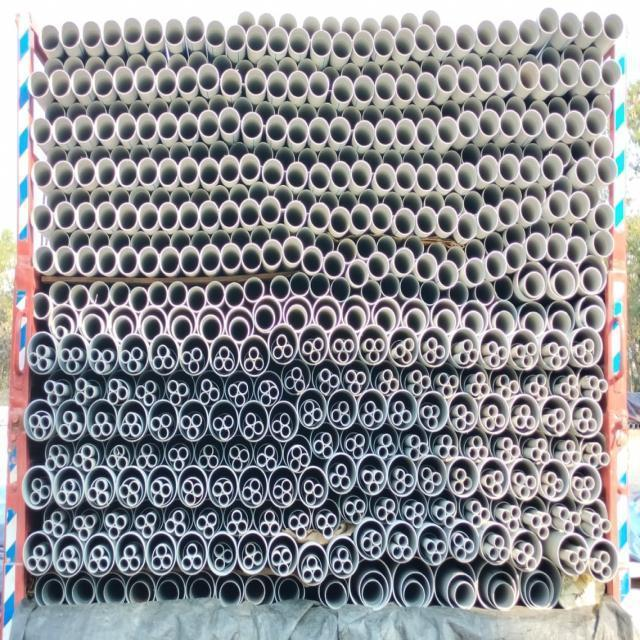pipe: (145, 172, 338, 340), (91, 197, 213, 405), (228, 183, 377, 349), (131, 456, 332, 563), (45, 219, 218, 336), (76, 443, 245, 559), (493, 422, 612, 585), (186, 349, 351, 456), (265, 109, 372, 273), (247, 17, 369, 151), (88, 93, 223, 214), (185, 89, 343, 191), (40, 411, 167, 533), (383, 265, 506, 379), (259, 118, 353, 264), (206, 158, 298, 304), (391, 447, 494, 570), (310, 427, 456, 512), (206, 20, 315, 129), (346, 465, 496, 544), (98, 114, 204, 216), (85, 252, 188, 352), (148, 17, 228, 144), (420, 248, 500, 373), (310, 40, 397, 152), (259, 141, 348, 230), (462, 21, 522, 148), (73, 55, 126, 198), (261, 414, 372, 482), (519, 225, 583, 342), (104, 428, 199, 505), (183, 350, 248, 460), (275, 162, 368, 237), (539, 47, 601, 158), (386, 31, 458, 123), (502, 356, 574, 446), (248, 368, 325, 451), (450, 49, 512, 152), (471, 145, 513, 285), (245, 369, 348, 426), (224, 72, 299, 150), (276, 400, 359, 470), (216, 333, 280, 420), (475, 264, 536, 352), (497, 477, 573, 545), (521, 523, 605, 583), (532, 68, 583, 162), (336, 367, 401, 440), (328, 299, 386, 380), (183, 577, 262, 634), (35, 216, 103, 281), (414, 86, 475, 157), (110, 35, 178, 98), (399, 373, 460, 441), (116, 393, 169, 469), (83, 122, 156, 177), (451, 100, 506, 173), (406, 176, 461, 247), (115, 46, 170, 116), (150, 508, 227, 558), (79, 244, 135, 311), (15, 80, 61, 161), (467, 32, 516, 108), (37, 497, 118, 542), (0, 403, 42, 488), (577, 67, 594, 275), (494, 33, 543, 105), (200, 2, 233, 98), (393, 82, 446, 141), (268, 474, 312, 544), (114, 158, 158, 223), (411, 309, 463, 363), (349, 558, 393, 620), (127, 252, 270, 271), (41, 566, 100, 611), (126, 82, 169, 141), (378, 458, 456, 488), (525, 136, 561, 200), (41, 31, 93, 75), (608, 24, 619, 228), (434, 559, 477, 611), (283, 496, 344, 532), (327, 476, 355, 554), (124, 553, 163, 609), (313, 48, 373, 84), (473, 79, 506, 144), (557, 19, 586, 91), (535, 113, 567, 178), (483, 227, 523, 279), (192, 433, 235, 481), (88, 475, 130, 523), (466, 110, 482, 230), (282, 304, 319, 355), (187, 497, 216, 560), (316, 565, 351, 616), (386, 324, 419, 371), (358, 569, 392, 612), (126, 172, 162, 212), (516, 445, 541, 502), (267, 322, 299, 365), (329, 327, 360, 366), (198, 533, 223, 581), (124, 46, 158, 81), (417, 440, 452, 474), (20, 152, 167, 160), (127, 463, 157, 501), (401, 580, 431, 609), (465, 256, 490, 290), (453, 581, 478, 615), (169, 313, 198, 342), (343, 261, 372, 289), (259, 193, 282, 227), (391, 246, 416, 277), (238, 153, 263, 184), (309, 198, 331, 233), (478, 107, 501, 140), (110, 313, 139, 338), (373, 119, 398, 148), (361, 580, 385, 610), (184, 223, 196, 283), (308, 69, 330, 101), (180, 244, 200, 278), (324, 580, 347, 609), (351, 31, 374, 59), (459, 209, 479, 241), (268, 535, 275, 624), (428, 383, 502, 391), (434, 308, 457, 333), (395, 206, 417, 232), (222, 280, 245, 304), (417, 163, 436, 191), (544, 180, 549, 274), (580, 423, 590, 463), (92, 389, 221, 392), (242, 411, 260, 430), (518, 246, 532, 265), (92, 361, 109, 376), (125, 360, 141, 375), (516, 404, 534, 417), (338, 406, 351, 423), (488, 403, 501, 420), (85, 105, 121, 111), (292, 365, 302, 385), (425, 474, 434, 495), (457, 403, 468, 420), (486, 343, 501, 355), (423, 404, 433, 420), (279, 415, 291, 428), (393, 401, 405, 414), (426, 338, 439, 350), (453, 477, 465, 489), (364, 413, 374, 427)
